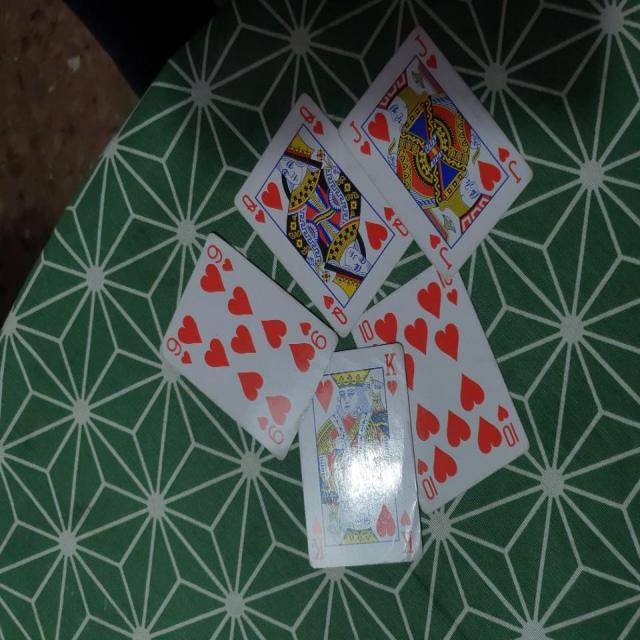10 of hearts: (352, 262, 528, 523)
9 of hearts: (148, 223, 338, 468)
jack of hearts: (333, 22, 538, 284)
king of hearts: (295, 336, 426, 580)
queen of hearts: (232, 96, 407, 342)
